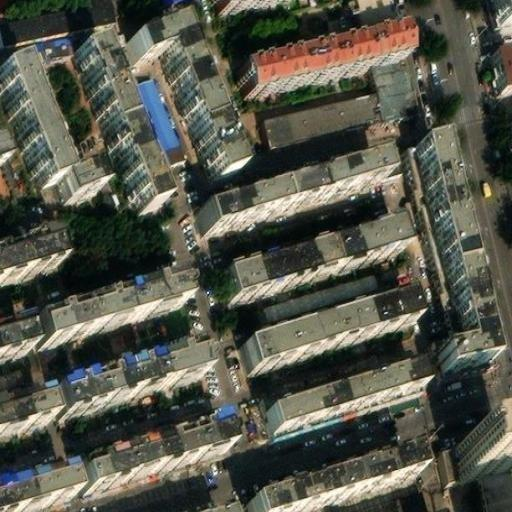building: (416, 129, 497, 363), (126, 13, 233, 174), (72, 36, 158, 205), (218, 223, 396, 301), (242, 14, 414, 89), (199, 154, 381, 224), (237, 296, 409, 367), (261, 363, 421, 436), (61, 339, 214, 413), (252, 450, 419, 512), (43, 276, 191, 344), (81, 418, 229, 485), (255, 272, 387, 328), (263, 84, 384, 137), (134, 67, 187, 156), (373, 52, 423, 115), (441, 429, 509, 475), (0, 472, 73, 512), (0, 234, 62, 276), (0, 385, 55, 428), (475, 470, 512, 512), (0, 325, 37, 360), (489, 47, 512, 94), (495, 0, 512, 21)
